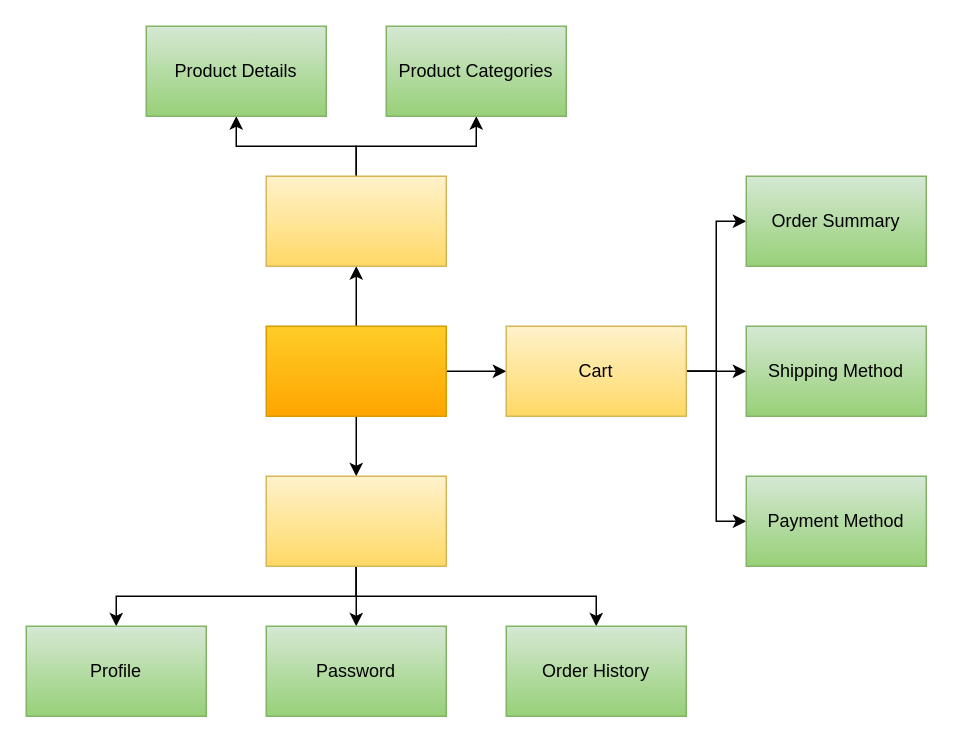
Some shapes in this 953 by 743 pixel diagram are drawn without their labels. Here are the shapes that lost their labels. From the top down, the centre of each, then its label:
At pixel 355 220: "Products Catalog".
At pixel 355 370: "Home Page".
At pixel 355 520: "Account".
